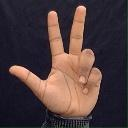hand: (8, 5, 102, 119)
